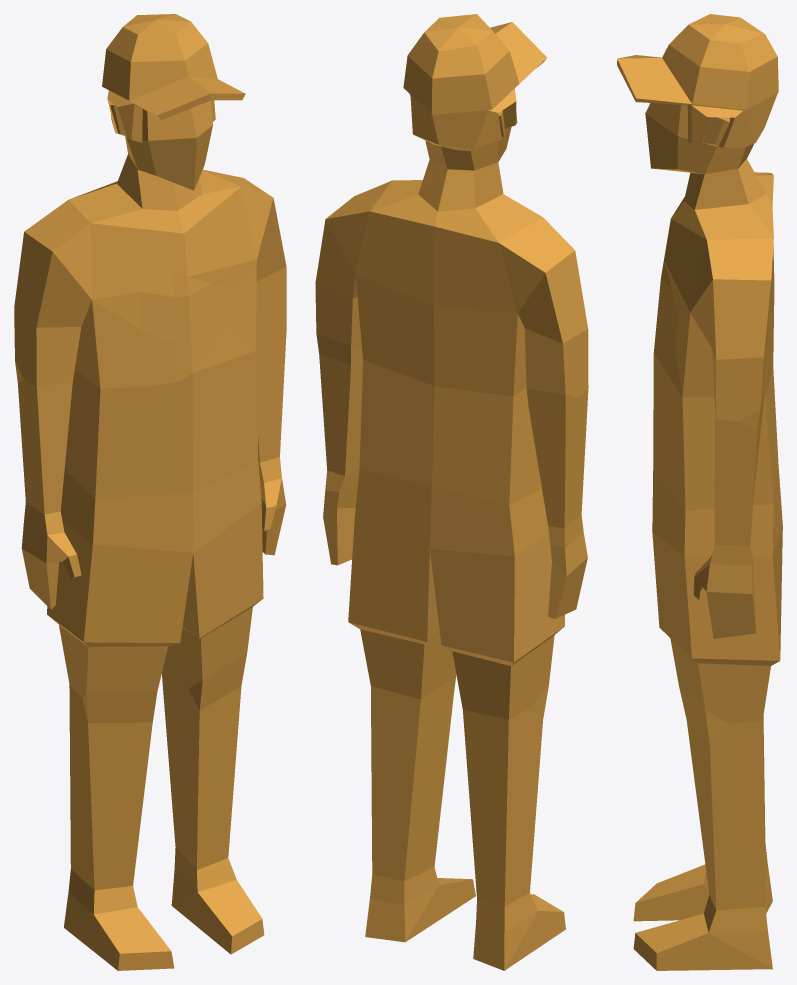
Rendered from man-pablo.fbx.
The picture shows the model from 3 angles, left to right: view 1: azimuth 30°, elevation 25°; view 2: azimuth 150°, elevation 25°; view 3: azimuth 270°, elevation 25°; orthographic projection.
Visible parts, largest first — view 1: man-pablo; view 2: man-pablo; view 3: man-pablo.
Boxes of the visible parts, x1,y1,x2,y2 form: man-pablo: (14, 14, 286, 970); man-pablo: (315, 14, 588, 970); man-pablo: (617, 14, 782, 970).
Bounding box in the file's own units: 0.5348 × 1.84 × 0.3044.
